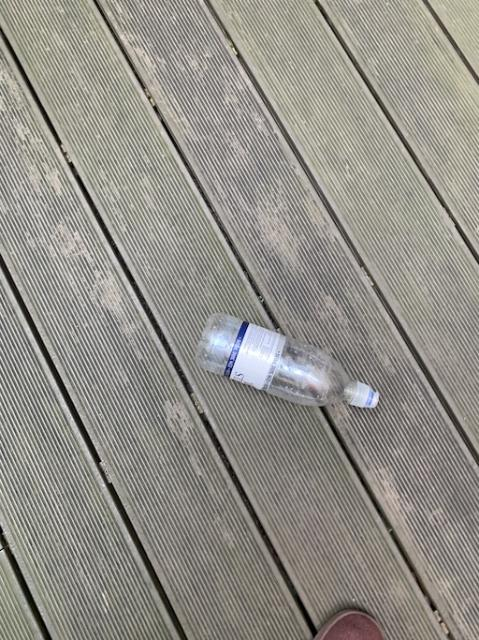plastic: (196, 312, 378, 406)
